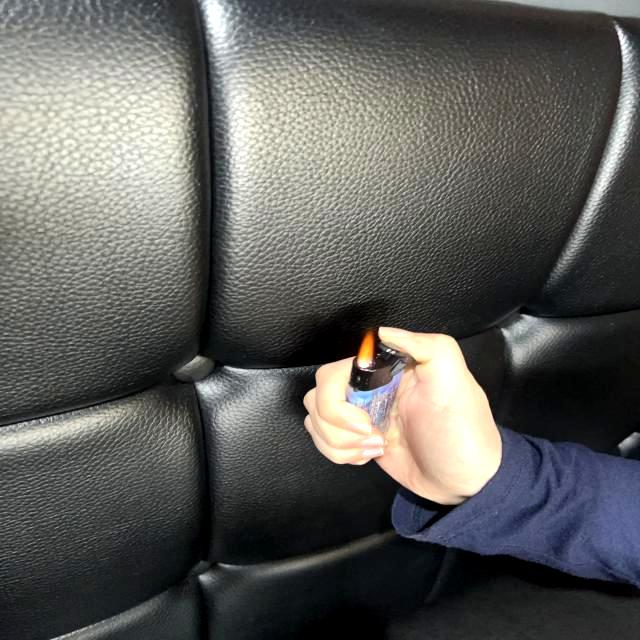fire: (357, 329, 378, 371)
